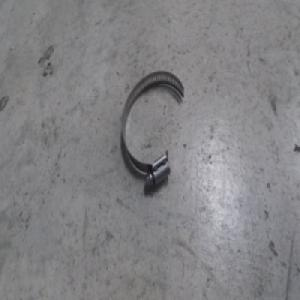AdjustableClamp: (121, 68, 185, 184)
